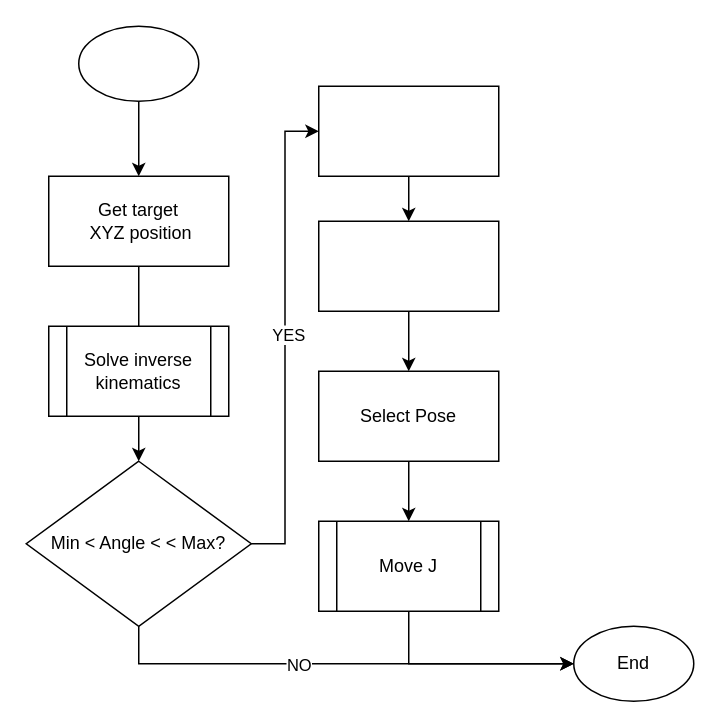
Image size: 720x728. Some labels were removed from this diagram. The shapes that lost their labels are listed below. From the top down, each one's box as (x1, y1, x2, y2) in pixels, then its label:
(77, 25, 199, 101): Begin
(317, 85, 499, 176): Calculate delta angle
(317, 220, 499, 311): Find maximal angle
